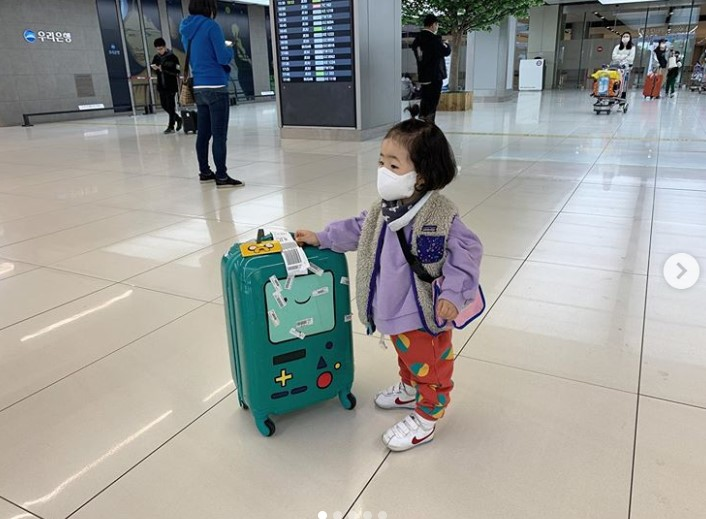face_no_mask: (153, 37, 166, 55)
face_with_mask: (376, 117, 441, 204), (426, 13, 440, 36), (620, 32, 635, 51), (658, 40, 671, 52)
